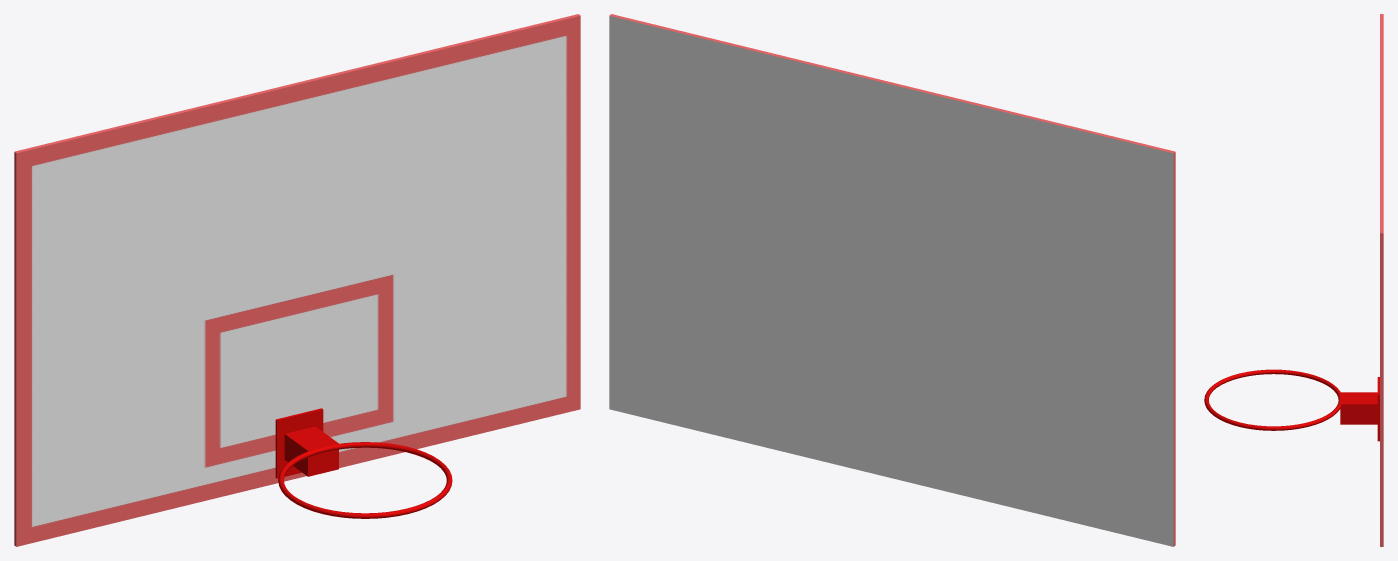
The model's file is basketball_hoop.glb.
3 renders of one model, left to right at view 1: azimuth 30°, elevation 25°; view 2: azimuth 150°, elevation 25°; view 3: azimuth 270°, elevation 25°, orthographic. The views are drawn at different scales.
Visible parts, largest first — view 1: Backboard, Hoop, Breakaway, Mount; view 2: Backboard; view 3: Backboard, Hoop, Breakaway.
Part boxes in pixels (x1,y1,x2,y2): Backboard: [14, 14, 580, 546]; Hoop: [278, 442, 452, 518]; Breakaway: [284, 426, 338, 476]; Mount: [275, 408, 323, 478]; Backboard: [609, 14, 1175, 546]; Backboard: [1380, 14, 1383, 546]; Hoop: [1204, 369, 1341, 430]; Breakaway: [1340, 392, 1377, 424].
Size of the model in its own units: 1.83 by 1.22 by 0.6321.
Materials: 2 (1 with a texture image).
